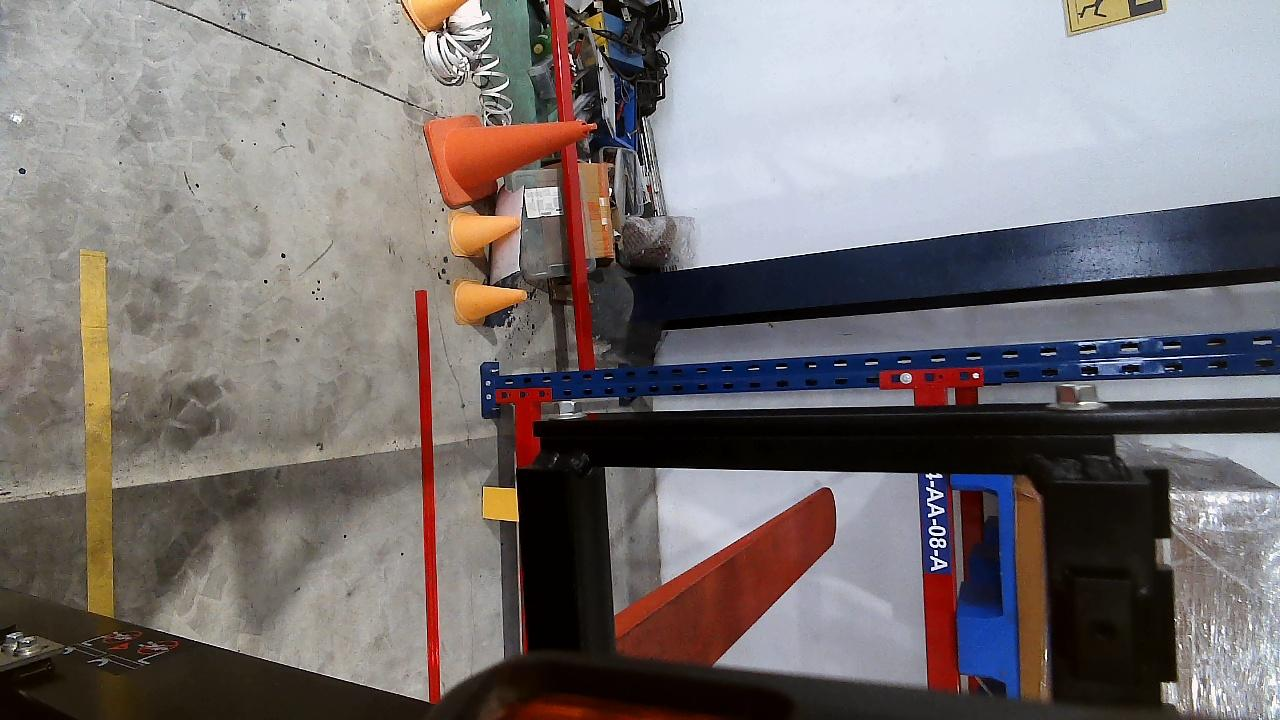h_rack: (910, 388, 954, 690)
red_line: (414, 290, 444, 703)
small_pallet: (948, 473, 1020, 696)
yellow_line: (80, 250, 113, 617)
